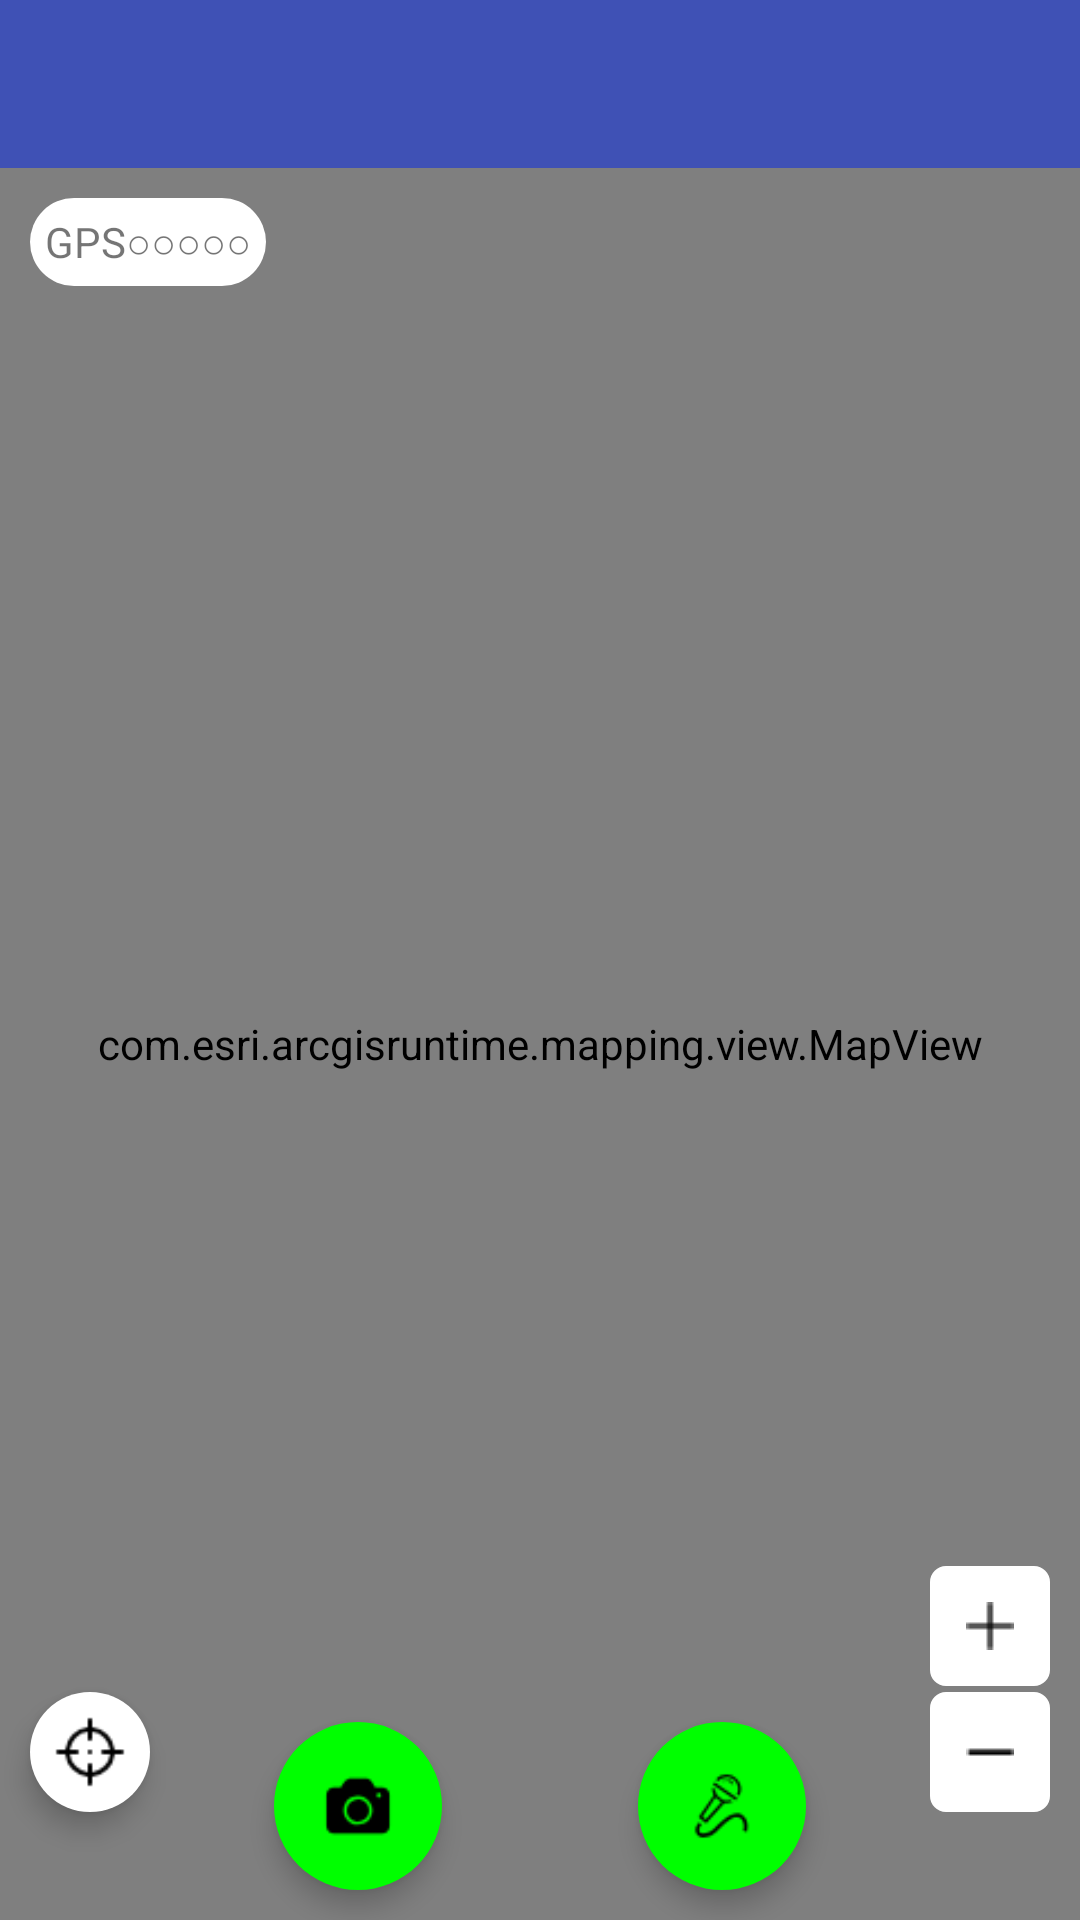

Locate icon controls on the screen. Image size 1080w x 1920h, boxes as (x1, y1, x2, y2).
dingwei: (30, 1692, 150, 1812)
mapview zoomin: (930, 1566, 1050, 1686)
mapview zoomout: (930, 1692, 1050, 1812)
microphone: (638, 1722, 806, 1890)
takephotos: (274, 1722, 442, 1890)
